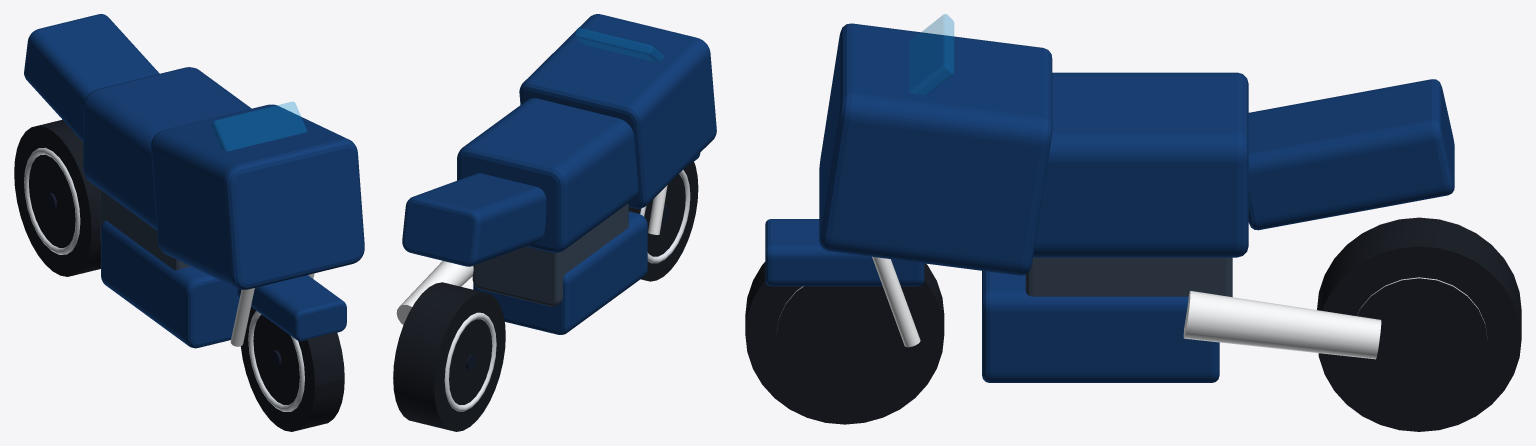
Rendered from supersport-bike.glb.
The picture shows the model from 3 angles, left to right: view 1: azimuth 30°, elevation 25°; view 2: azimuth 150°, elevation 25°; view 3: azimuth 270°, elevation 25°; orthographic projection. The views are drawn at different scales.
Parts seen in each view (by area): view 1: body_fairing, body_fuel_tank, wheel_tire_rear, body_belly_pan, body_seat_cowl, wheel_tire_front, body_front_mudguard, glass_windscreen, trim_engine_frame, wheel_rim_rear, wheel_rim_front, object 8; view 2: body_fairing, body_fuel_tank, wheel_tire_rear, body_seat_cowl, body_belly_pan, trim_engine_frame, wheel_tire_front, wheel_rim_rear, trim_exhaust, glass_windscreen, wheel_rim_front, object 8; view 3: body_fairing, body_fuel_tank, wheel_tire_rear, body_seat_cowl, wheel_tire_front, body_belly_pan, trim_exhaust, trim_engine_frame, body_front_mudguard, glass_windscreen, object 9.
Boxes of the visible parts, x1,y1,x2,y2 form: body_fairing: [151, 104, 364, 289]; body_fuel_tank: [83, 67, 251, 230]; wheel_tire_rear: [14, 119, 100, 276]; body_belly_pan: [101, 220, 239, 348]; body_seat_cowl: [24, 14, 159, 141]; wheel_tire_front: [240, 307, 344, 431]; body_front_mudguard: [237, 275, 346, 341]; glass_windscreen: [211, 102, 307, 150]; trim_engine_frame: [100, 189, 190, 270]; wheel_rim_rear: [24, 147, 80, 254]; wheel_rim_front: [248, 310, 304, 411]; object 8: [230, 288, 254, 346]; body_fairing: [519, 14, 716, 208]; body_fuel_tank: [457, 98, 638, 252]; wheel_tire_rear: [393, 282, 505, 431]; body_seat_cowl: [402, 173, 546, 266]; body_belly_pan: [473, 211, 647, 334]; trim_engine_frame: [472, 203, 628, 306]; wheel_tire_front: [628, 162, 698, 281]; wheel_rim_rear: [444, 312, 496, 411]; trim_exhaust: [396, 261, 473, 324]; glass_windscreen: [575, 28, 663, 61]; wheel_rim_front: [640, 170, 690, 263]; object 8: [648, 185, 667, 234]; body_fairing: [819, 23, 1052, 275]; body_fuel_tank: [1033, 72, 1248, 257]; wheel_tire_rear: [1317, 217, 1521, 431]; body_seat_cowl: [1248, 79, 1454, 230]; wheel_tire_front: [745, 262, 944, 424]; body_belly_pan: [982, 271, 1219, 382]; trim_exhaust: [1183, 291, 1381, 359]; trim_engine_frame: [1025, 257, 1232, 296]; body_front_mudguard: [765, 219, 924, 286]; glass_windscreen: [909, 14, 953, 94]; object 9: [872, 256, 920, 347].
Size of the model in its own units: 0.761 by 1.47 by 2.73.
